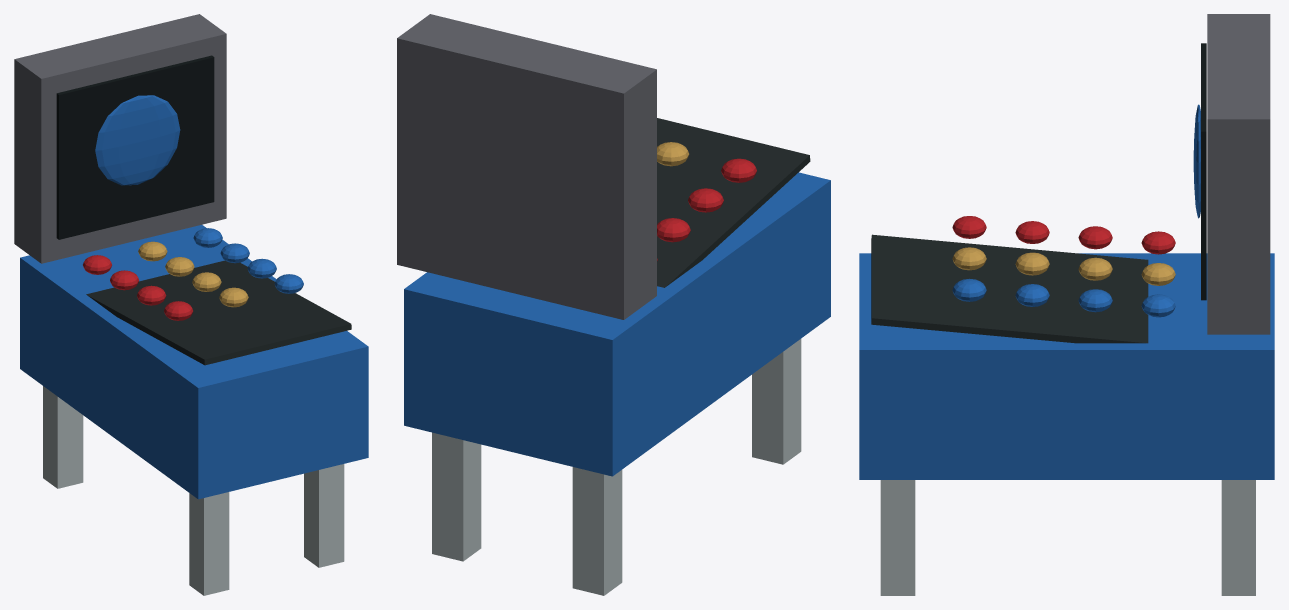
Rendered from good.glb.
The picture shows the model from 3 angles, left to right: view 1: azimuth 30°, elevation 25°; view 2: azimuth 150°, elevation 25°; view 3: azimuth 270°, elevation 25°; orthographic projection. The views are drawn at different scales.
Parts seen in each view (by area): view 1: Bumper.002, Backbox, Backglass, Playfield, Leg, Bumper.001, Bumper; view 2: Bumper.002, Backbox, Leg, Playfield, Bumper, Bumper.001; view 3: Bumper.002, Playfield, Backbox, Leg, Bumper.001, Bumper, Backglass.
Part boxes in pixels (x1,y1,x2,y2): Bumper.002: [20, 95, 368, 499]; Backbox: [14, 14, 226, 263]; Backglass: [56, 55, 214, 239]; Playfield: [86, 260, 351, 365]; Leg: [43, 386, 344, 595]; Bumper.001: [138, 241, 248, 307]; Bumper: [83, 255, 193, 320]; Bumper.002: [404, 172, 830, 476]; Backbox: [397, 14, 656, 319]; Leg: [432, 339, 801, 595]; Playfield: [657, 118, 810, 287]; Bumper: [657, 158, 756, 260]; Bumper.001: [657, 142, 689, 166]; Bumper.002: [859, 104, 1274, 479]; Playfield: [871, 234, 1148, 343]; Backbox: [1207, 14, 1270, 334]; Leg: [880, 480, 1255, 595]; Bumper.001: [952, 247, 1175, 285]; Bumper: [952, 216, 1175, 254]; Backglass: [1201, 43, 1206, 300].
Bounding box in the file's own units: 0.6 × 1.3 × 1.
